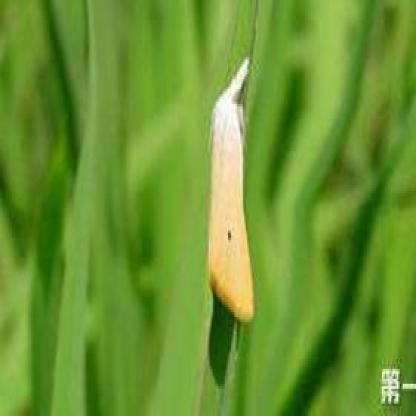stem-borer: (206, 55, 256, 324)
